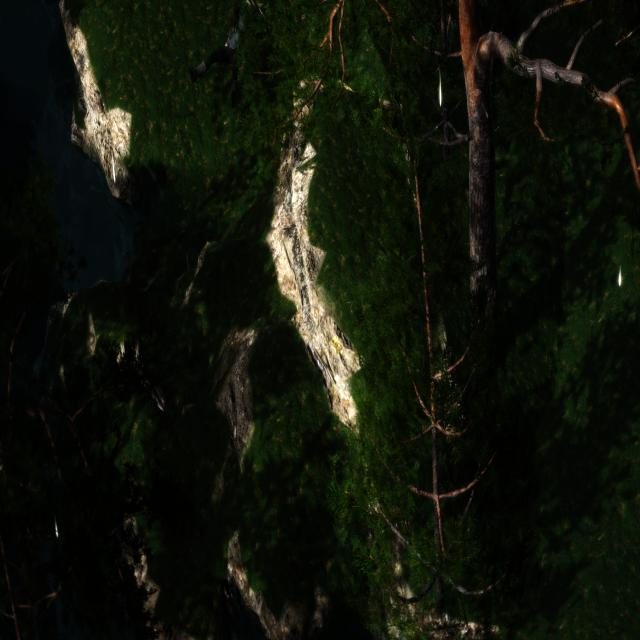Human: (188, 0, 254, 112)
